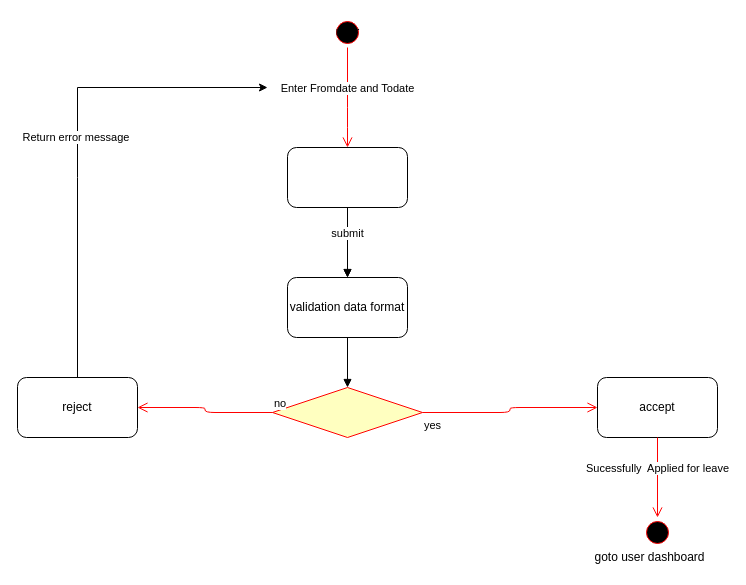
The diagram is 746 pixels wide and 585 high, and some of its shapes have lost their labels. Each missing label, with the centre of its shape:
fromdate<todate: [347,412]
Get the details: [347,177]
